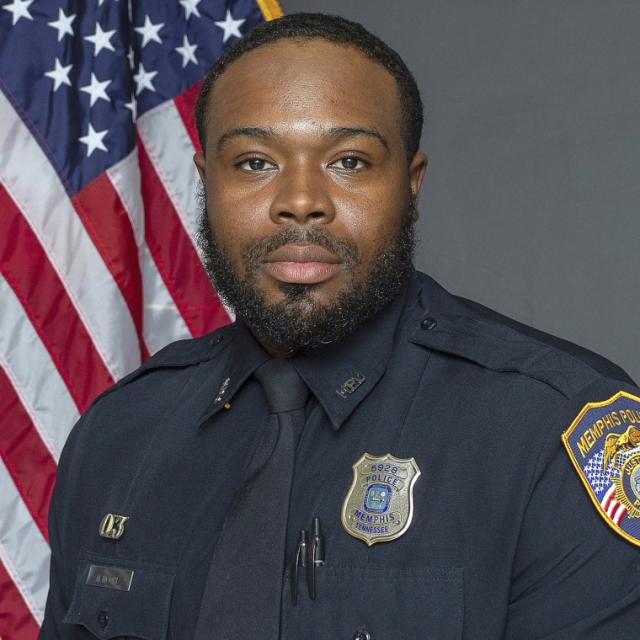police: (54, 14, 636, 640)
